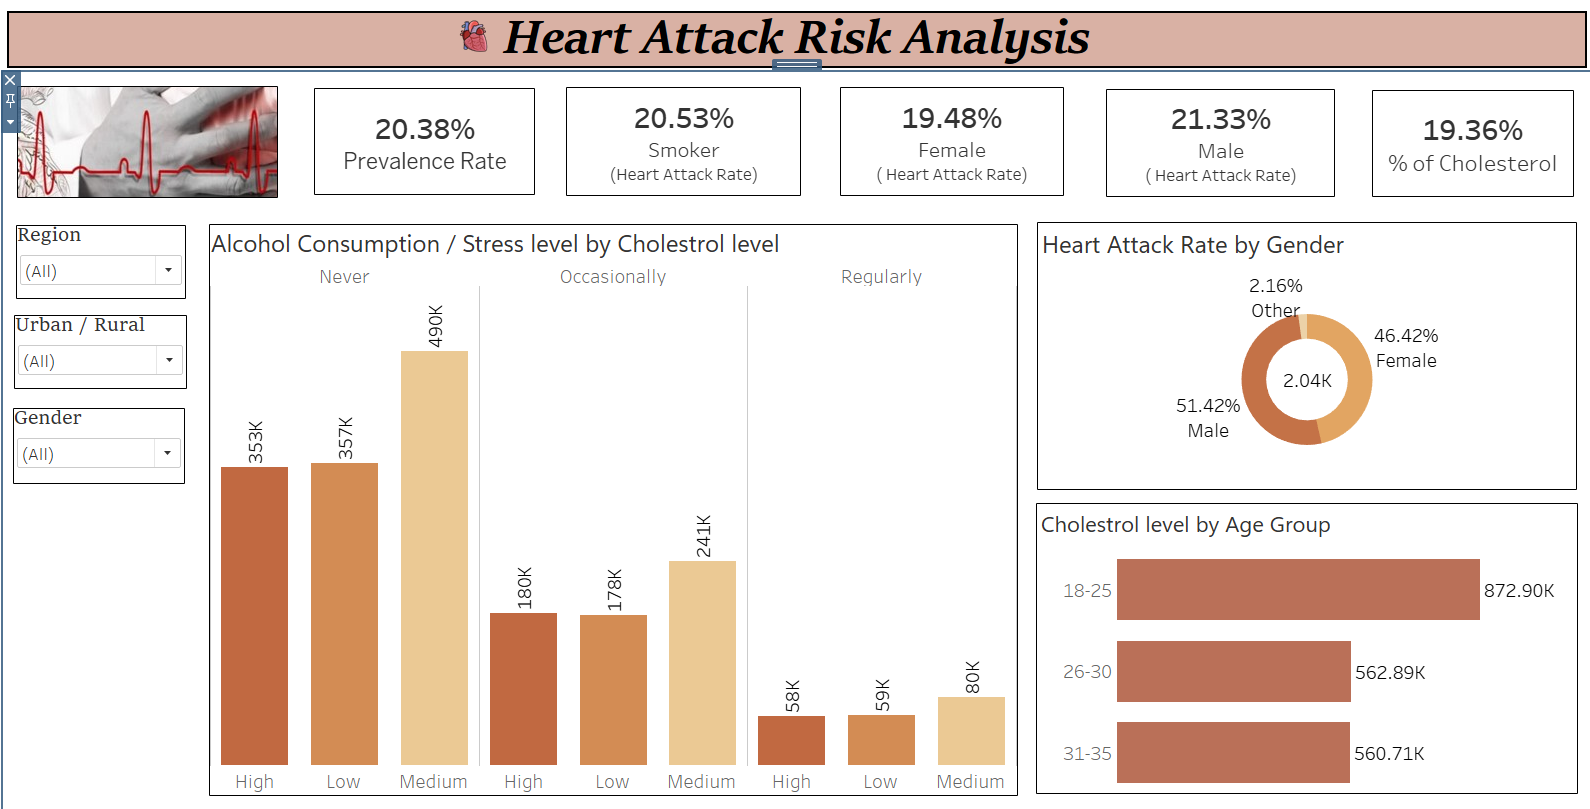

This screenshot's page, from the dashboard's own definition file:
{"tool":"tableau","page":{"name":"Dashboard 1","canvas":[1000,1000],"units":"permille","ordinal":0},"visuals":[{"type":"title","box":[5,9.8,990,79.5]},{"type":"image","param":"Image/images-removebg-preview.png","box":[275.6,15.9,45.5,64.8]},{"type":"image","param":"Image/Heart_Attack-removebg-preview.png","box":[13.7,106.4,162.7,136.9]},{"type":"worksheet","title":"Smoker","mark":"Automatic","box":[356,107.6,146.5,133.2]},{"type":"worksheet","title":"Female","mark":"Automatic","box":[526.8,107.6,139.7,133.2]},{"type":"worksheet","title":"Prevalence Rate","mark":"Automatic","box":[198.9,108.8,137.8,130.8]},{"type":"worksheet","title":"Male","mark":"Automatic","box":[692.6,110,142.8,132]},{"type":"worksheet","title":"Cholesterol","mark":"Automatic","box":[858.5,111.2,125.9,130.8]},{"type":"worksheet","title":"Heart Atttack rate by gender","mark":"Pie","rows":["Calculation_569986870217523202","Calculation_569986870217523202"],"box":[649.6,272.6,336.7,327.6]},{"type":"worksheet","title":"Alcohol Consumption","mark":"Automatic","rows":["Cholesterol Levels (mg/dL)"],"cols":["Alcohol Consumption","Stress Level"],"box":[133.4,275.1,504.4,699.3]},{"type":"filter","title":"Alcohol Consumption","param":"[federated.101mydz05yx8te1c7uaap0sat08u].[none:Region:nk]","box":[13.1,276.3,106,90.5]},{"type":"filter","title":"Alcohol Consumption","param":"[federated.101mydz05yx8te1c7uaap0sat08u].[none:Urban/Rural:nk]","box":[11.8,386.3,107.9,90.5]},{"type":"filter","title":"Alcohol Consumption","param":"[federated.101mydz05yx8te1c7uaap0sat08u].[none:Gender:nk]","box":[11.2,500,107.2,92.9]},{"type":"worksheet","title":"Age Wise Cholerstorol","mark":"Automatic","rows":["Calculation_131730331093176323"],"cols":["Cholesterol Levels (mg/dL)"],"box":[649,616.1,337.9,355.8]}]}

Visuals, with their boxes on the dashboard's canvas, which has no fixed pixel size, in thousandths of its width and height (x1, y1, x2, y2). These are canvas units, not pixel positions in the 1590x809 screenshot, which may show the page scaled, cropped or inside an application window:
title: crop(5, 10, 995, 89)
image: crop(276, 16, 321, 81)
image: crop(14, 106, 176, 243)
"Smoker" worksheet: crop(356, 108, 502, 241)
"Female" worksheet: crop(527, 108, 666, 241)
"Prevalence Rate" worksheet: crop(199, 109, 337, 240)
"Male" worksheet: crop(693, 110, 835, 242)
"Cholesterol" worksheet: crop(858, 111, 984, 242)
"Heart Atttack rate by gender" worksheet (Pie marks): crop(650, 273, 986, 600)
"Alcohol Consumption" worksheet: crop(133, 275, 638, 974)
"Alcohol Consumption" filter: crop(13, 276, 119, 367)
"Alcohol Consumption" filter: crop(12, 386, 120, 477)
"Alcohol Consumption" filter: crop(11, 500, 118, 593)
"Age Wise Cholerstorol" worksheet: crop(649, 616, 987, 972)
